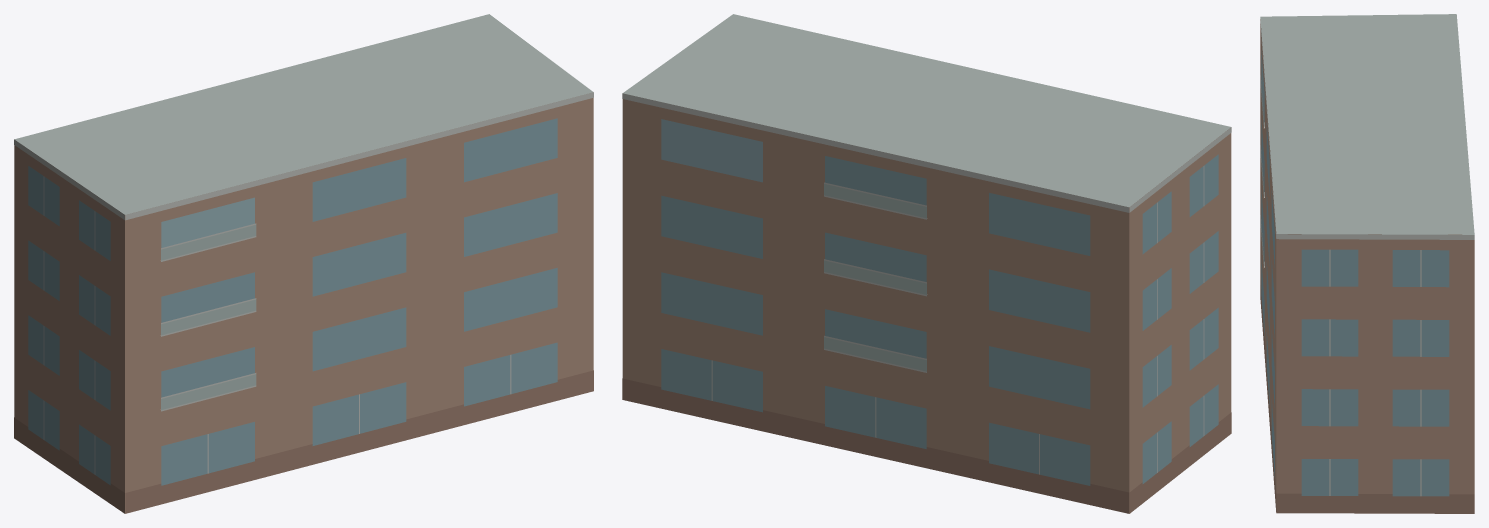
Rendered from survey-upis-32755461.glb.
3 views of the same model, side by side, from view 1: azimuth 30°, elevation 25°; view 2: azimuth 150°, elevation 25°; view 3: azimuth 270°, elevation 25° (orthographic). The views are drawn at different scales.
Visible parts, largest first — view 1: survey-upis-32755461.tmp; view 2: survey-upis-32755461.tmp; view 3: survey-upis-32755461.tmp.
Boxes of the visible parts, left/top/right/bottom form: survey-upis-32755461.tmp: left=14, top=14, right=593, bottom=513; survey-upis-32755461.tmp: left=622, top=14, right=1231, bottom=513; survey-upis-32755461.tmp: left=1260, top=14, right=1474, bottom=513.
Size of the model in its own units: 22.58 by 13.3 by 9.27.
